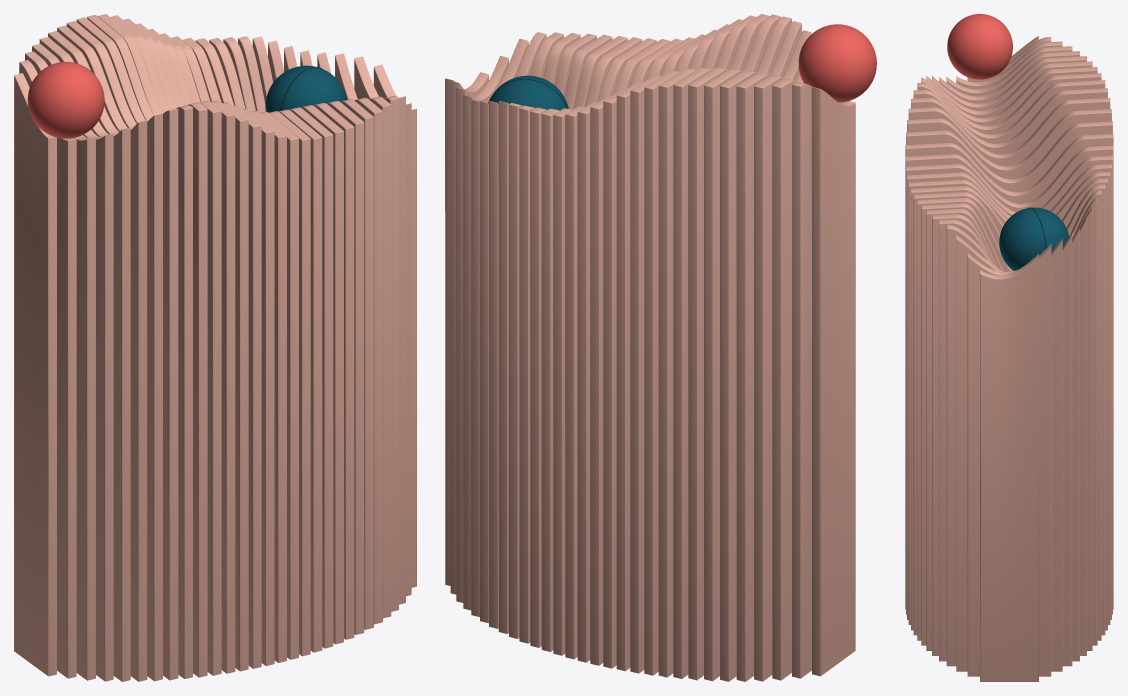
The picture shows the model from 3 angles, left to right: view 1: azimuth 30°, elevation 25°; view 2: azimuth 150°, elevation 25°; view 3: azimuth 270°, elevation 25°; orthographic projection. The views are drawn at different scales.
Parts seen in each view (by area): view 1: comb, red, teal; view 2: comb, red, teal; view 3: comb, red, teal.
Boxes of the visible parts, x1,y1,x2,y2 form: comb: (14, 14, 416, 681); red: (27, 62, 104, 138); teal: (265, 65, 346, 112); comb: (445, 14, 855, 681); red: (798, 24, 876, 102); teal: (488, 75, 568, 110); comb: (905, 36, 1113, 681); red: (947, 14, 1012, 79); teal: (999, 207, 1068, 270).
Bounding box in the file's own units: 3.34 × 5.05 × 1.84.
